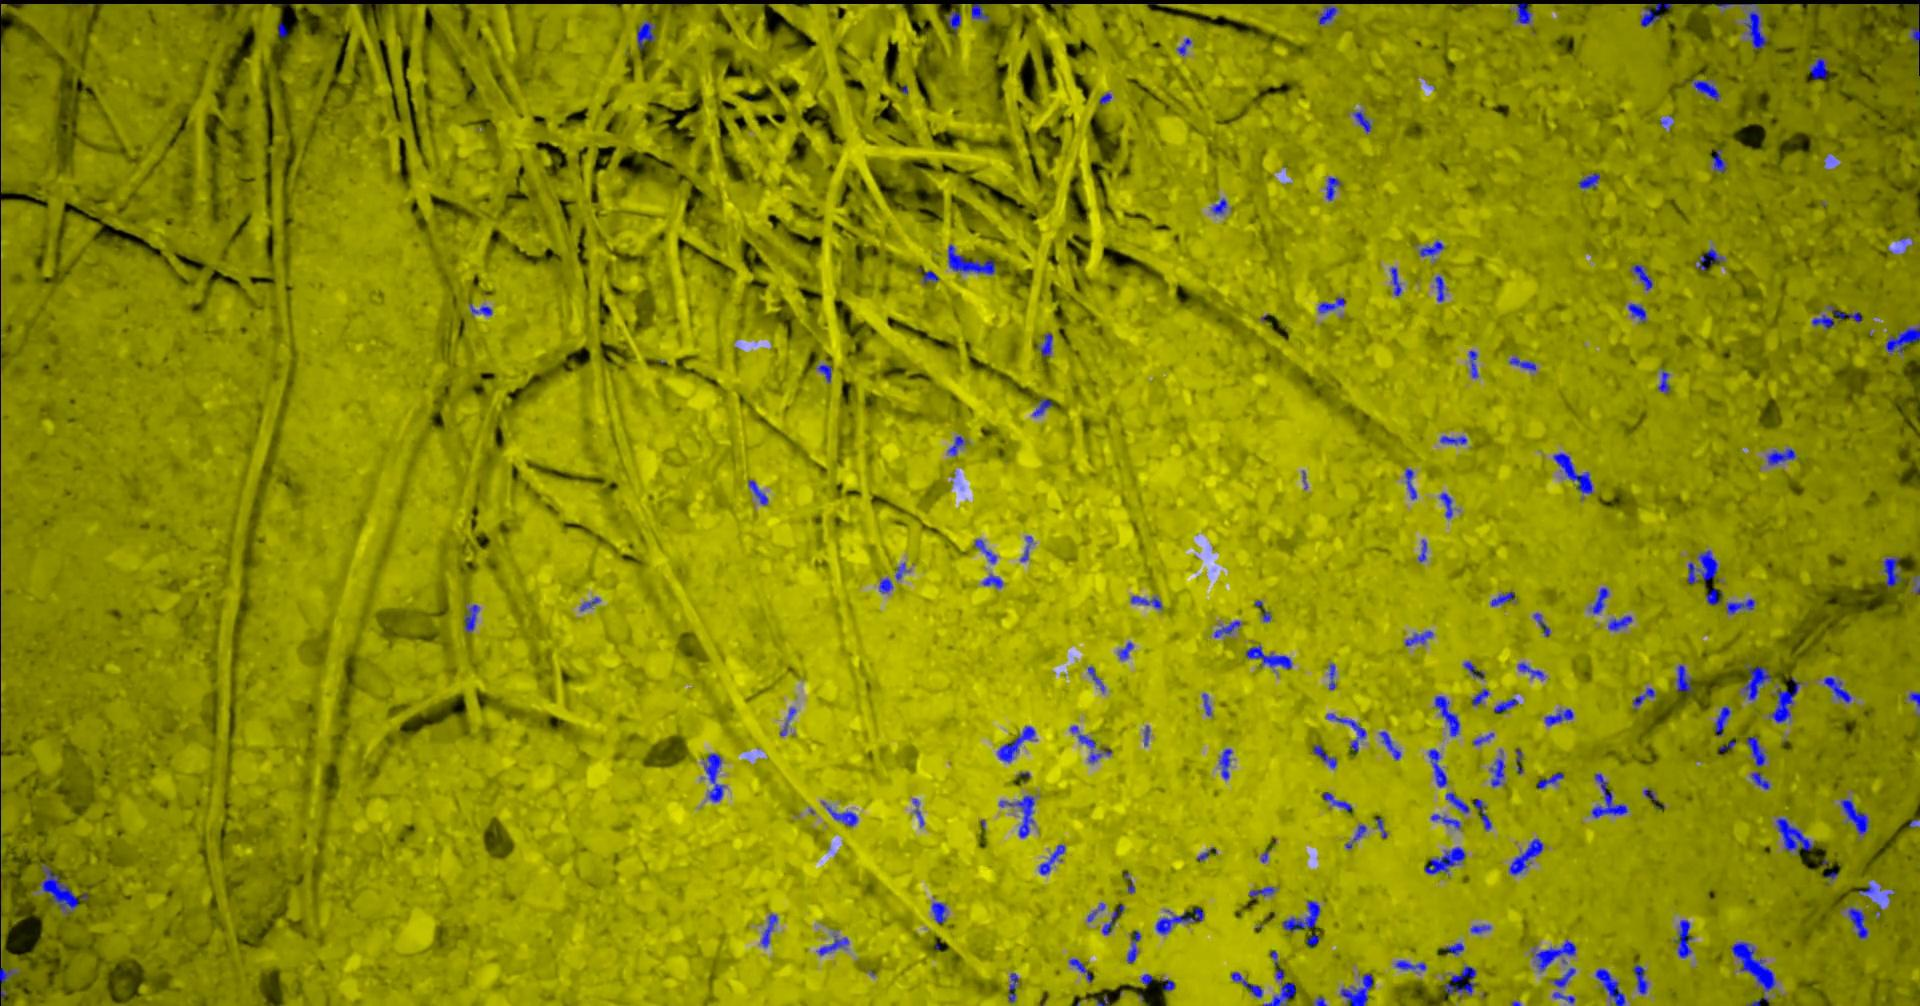ant: (1716, 3, 1768, 50), (39, 866, 88, 913), (1731, 941, 1775, 989), (1552, 452, 1592, 498), (1324, 713, 1365, 751), (1591, 774, 1627, 817), (947, 243, 996, 274), (998, 795, 1034, 837), (997, 727, 1036, 762), (1768, 676, 1798, 721), (1531, 939, 1575, 970), (1775, 817, 1815, 851), (1156, 907, 1203, 934), (1069, 725, 1101, 763), (1509, 838, 1542, 874), (1594, 968, 1625, 1005), (1423, 846, 1465, 873), (1283, 901, 1319, 930), (1244, 645, 1291, 668), (1686, 549, 1717, 583), (1840, 799, 1869, 835), (1434, 695, 1459, 735), (1340, 973, 1371, 1005), (1443, 965, 1476, 996), (703, 753, 724, 801), (1743, 666, 1771, 699), (1884, 326, 1919, 353), (1230, 970, 1262, 997), (1037, 843, 1064, 874), (1427, 748, 1448, 788), (1262, 982, 1297, 1005), (1823, 676, 1851, 702), (1641, 3, 1672, 25), (0, 965, 18, 1005), (1691, 77, 1719, 102), (1694, 248, 1723, 271), (825, 805, 857, 826), (817, 935, 848, 955), (1745, 735, 1765, 766), (1310, 744, 1336, 768), (759, 913, 777, 948), (1472, 798, 1491, 829), (1379, 730, 1399, 760), (1102, 904, 1123, 934), (1829, 305, 1862, 323), (1848, 907, 1867, 937), (1676, 920, 1691, 956), (636, 20, 655, 50), (973, 539, 996, 563), (1068, 958, 1091, 982), (1630, 264, 1652, 290), (1322, 793, 1352, 810), (1544, 708, 1573, 725), (748, 479, 767, 506), (1882, 558, 1900, 586), (1632, 687, 1655, 709), (1445, 793, 1469, 813), (1345, 824, 1365, 848), (1766, 448, 1796, 465), (1590, 587, 1608, 614), (1807, 56, 1827, 79), (1430, 813, 1460, 828), (1552, 967, 1575, 987), (1317, 296, 1345, 312), (778, 708, 795, 735), (1126, 930, 1140, 963), (1517, 662, 1543, 680), (1714, 706, 1730, 735), (1632, 964, 1647, 993), (1213, 620, 1239, 636), (1909, 15, 1919, 58), (1352, 111, 1371, 133), (1130, 594, 1161, 608), (1726, 598, 1754, 614), (1404, 630, 1432, 645), (1676, 664, 1691, 692), (1087, 666, 1103, 691), (1270, 950, 1284, 979), (1537, 772, 1563, 788), (1418, 240, 1443, 257), (1533, 612, 1549, 636), (463, 605, 477, 633), (1490, 758, 1503, 786), (1317, 5, 1337, 24), (1643, 788, 1663, 807), (1463, 661, 1484, 678), (1324, 177, 1341, 199), (1032, 398, 1051, 417), (1404, 467, 1416, 499), (943, 11, 960, 33), (1608, 615, 1630, 630), (1219, 748, 1230, 779), (1007, 972, 1018, 1002), (1627, 304, 1644, 323), (1509, 357, 1535, 370), (1439, 492, 1451, 518), (1020, 535, 1032, 561), (1750, 771, 1769, 789), (1037, 332, 1051, 356), (1490, 591, 1514, 605), (1493, 699, 1517, 713), (1515, 3, 1531, 23), (1578, 171, 1599, 188), (947, 434, 964, 455), (1396, 959, 1425, 970), (1710, 149, 1724, 171), (1811, 314, 1834, 328), (1552, 991, 1575, 1005), (970, 3, 988, 20), (1087, 902, 1103, 921), (931, 902, 946, 922), (1472, 732, 1493, 746), (1705, 587, 1722, 605), (1470, 688, 1488, 705), (469, 302, 491, 315), (1657, 370, 1670, 392), (1248, 887, 1274, 898), (1441, 942, 1463, 955), (1176, 37, 1191, 55), (1468, 351, 1478, 377), (1439, 434, 1465, 445), (1117, 641, 1133, 659), (1390, 265, 1399, 295), (1434, 276, 1444, 301), (982, 574, 1002, 587), (579, 597, 599, 610), (817, 365, 830, 382), (1210, 198, 1225, 213), (922, 271, 938, 285), (1201, 694, 1211, 715), (1417, 539, 1426, 561), (879, 577, 891, 592), (1470, 923, 1490, 934), (895, 561, 905, 579), (1305, 932, 1318, 946), (1909, 691, 1919, 708), (1328, 663, 1335, 688), (277, 22, 287, 37), (1162, 979, 1175, 989)
